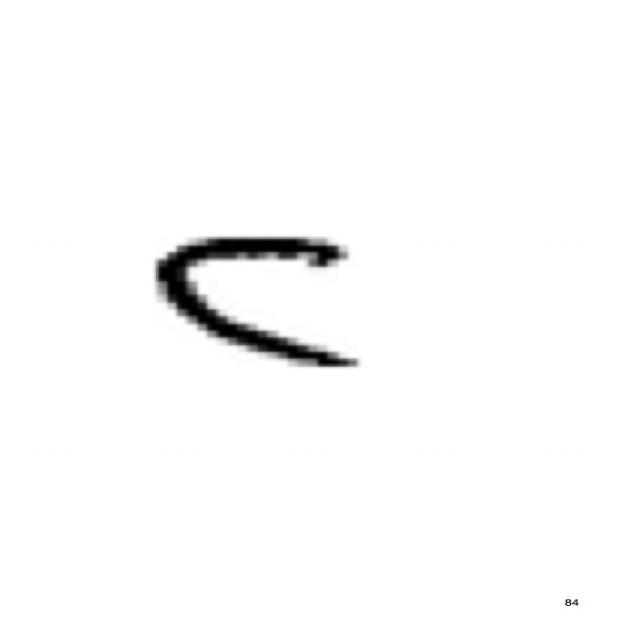2 -two-: (134, 221, 379, 382)
